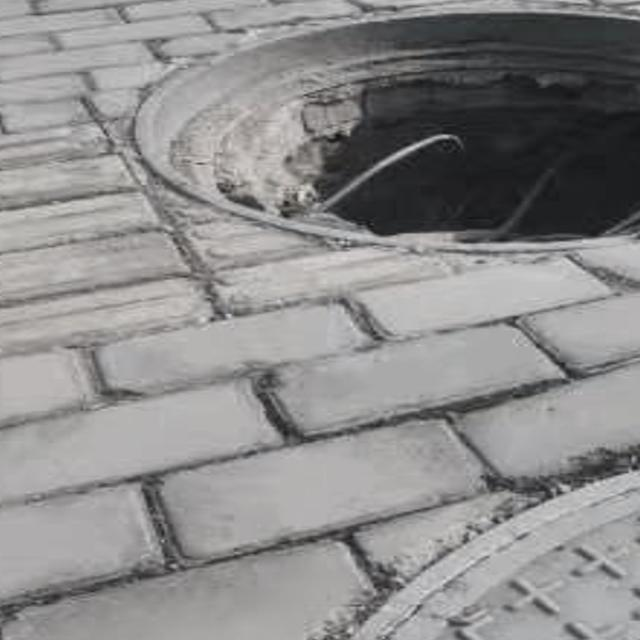lose: (130, 2, 640, 255), (237, 437, 640, 640)
